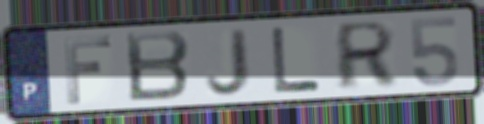5: (406, 13, 461, 88)
B: (121, 28, 192, 105)
F: (61, 34, 115, 106)
J: (203, 27, 252, 98)
L: (269, 25, 324, 94)
R: (334, 19, 398, 93)
